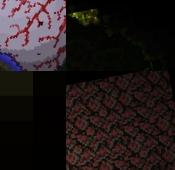bow: (0, 71, 66, 170)
eyeC: (0, 0, 66, 71)
